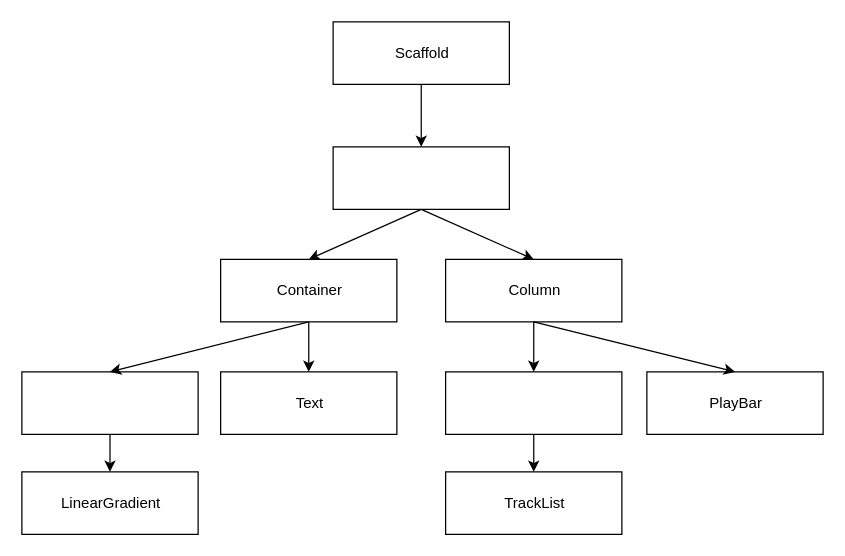
Image size: 845x556. Some labels were removed from this diagram. Each missing label, with the centre of its shape:
AppBar: the point at 420,177
BoxDecoration: the point at 109,402
Expanded: the point at 533,402
